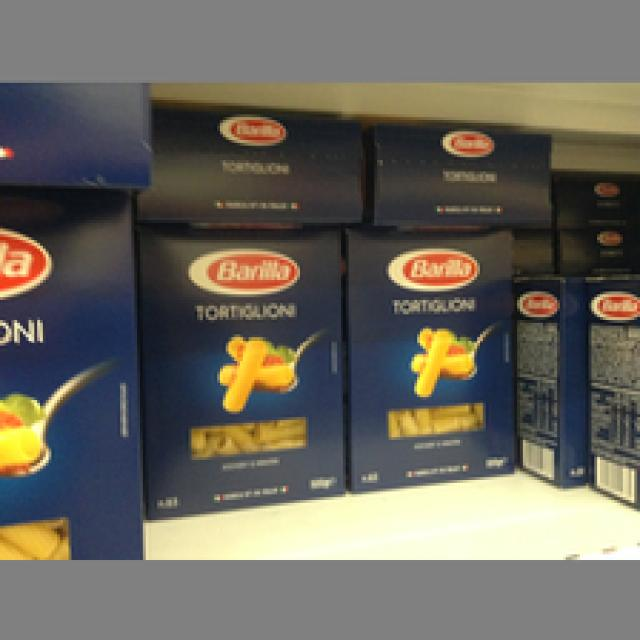groceries: (131, 220, 346, 517), (340, 226, 523, 491)
